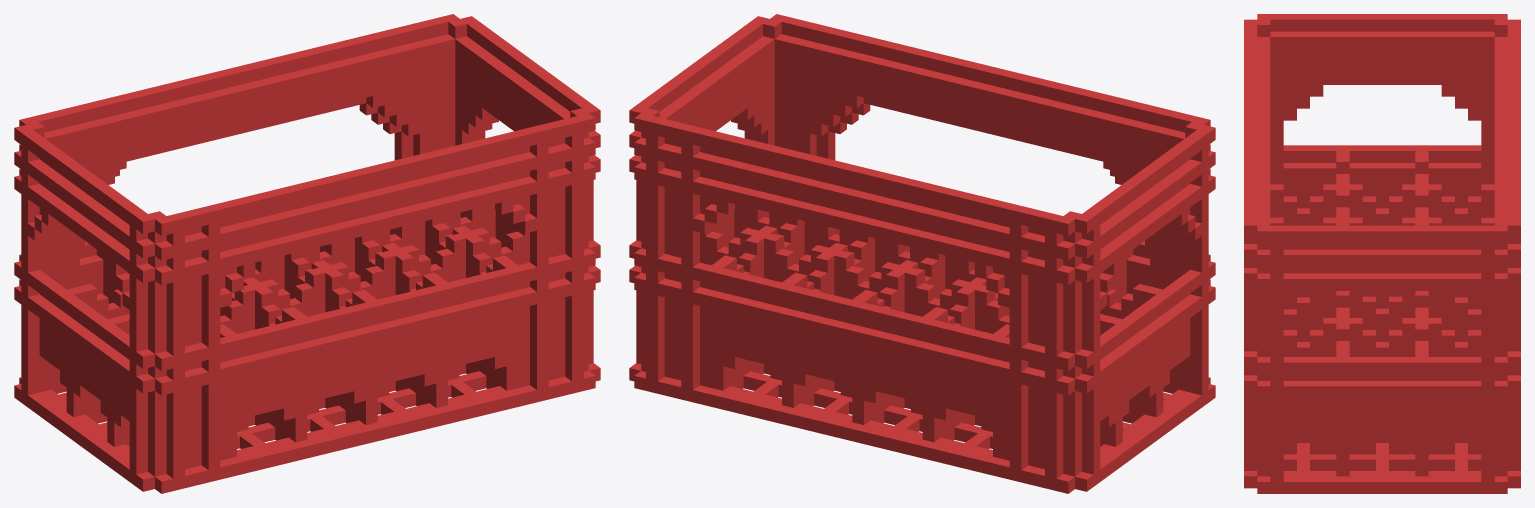
File: BottleCrate-0.obj
3 views of the same model, side by side, from view 1: azimuth 30°, elevation 25°; view 2: azimuth 150°, elevation 25°; view 3: azimuth 270°, elevation 25° (orthographic). The views are drawn at different scales.
Bounding box in the file's own units: 3.9 × 2.2 × 2.1.
1 material, 1 textured.
